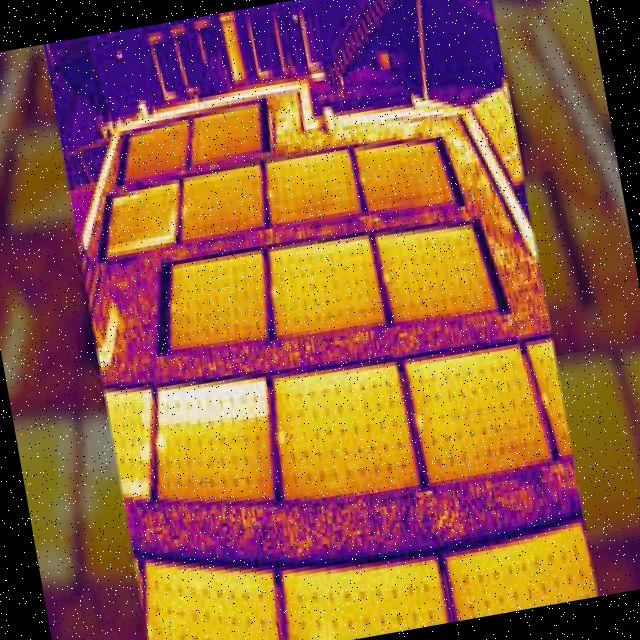Hotspot: (155, 373, 272, 437), (111, 230, 175, 259), (118, 471, 150, 506), (112, 193, 142, 209), (164, 206, 178, 238), (154, 432, 170, 453), (139, 408, 155, 428), (136, 443, 154, 460), (138, 388, 154, 406), (414, 407, 424, 434), (276, 427, 288, 443), (269, 285, 279, 298)
